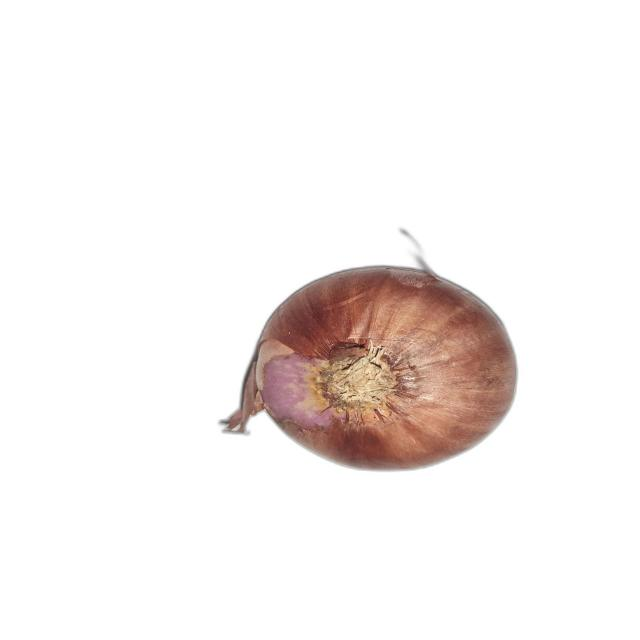onion: (226, 261, 524, 473)
